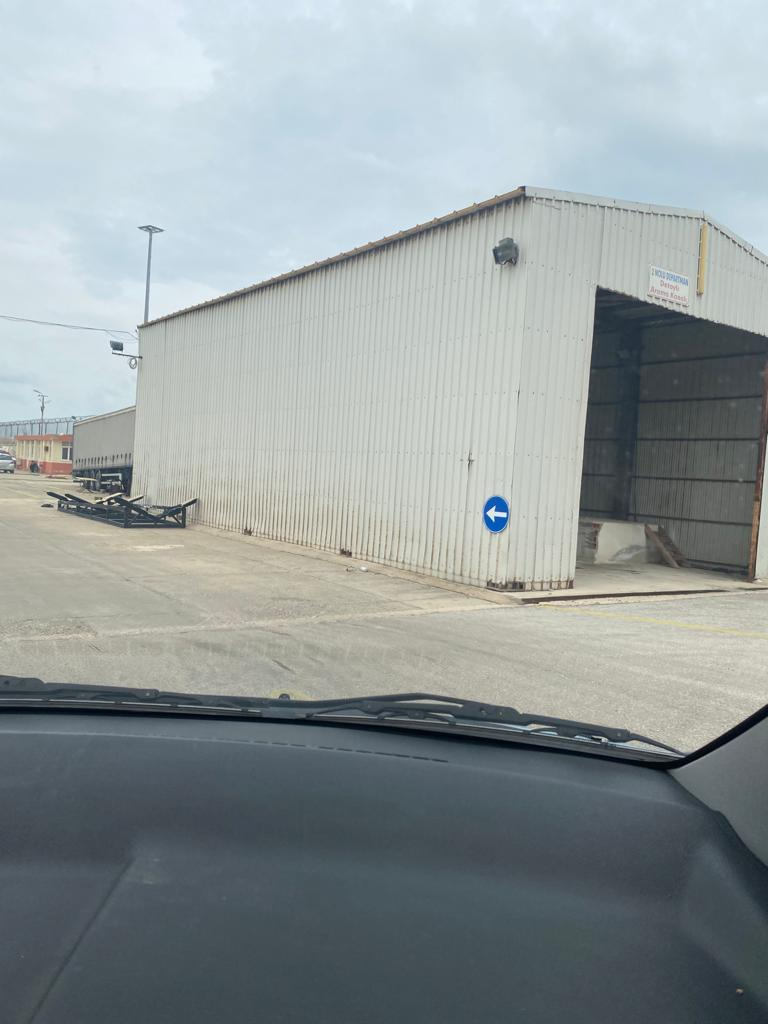turnleft: (483, 496, 510, 534)
